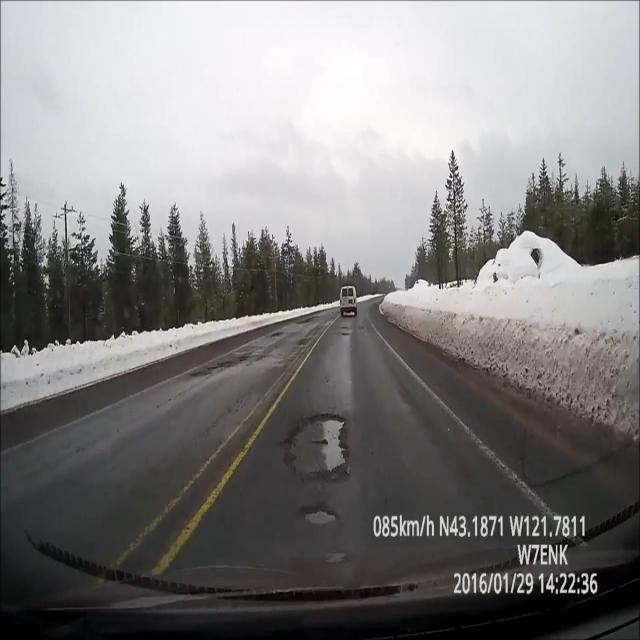Pothole: (278, 403, 356, 492), (290, 502, 346, 534)
